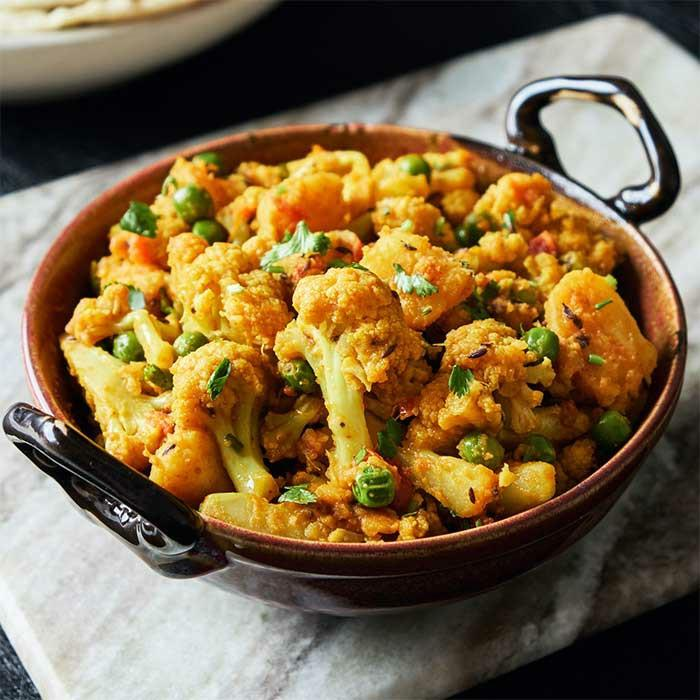AlooGobi: (61, 147, 656, 542)
